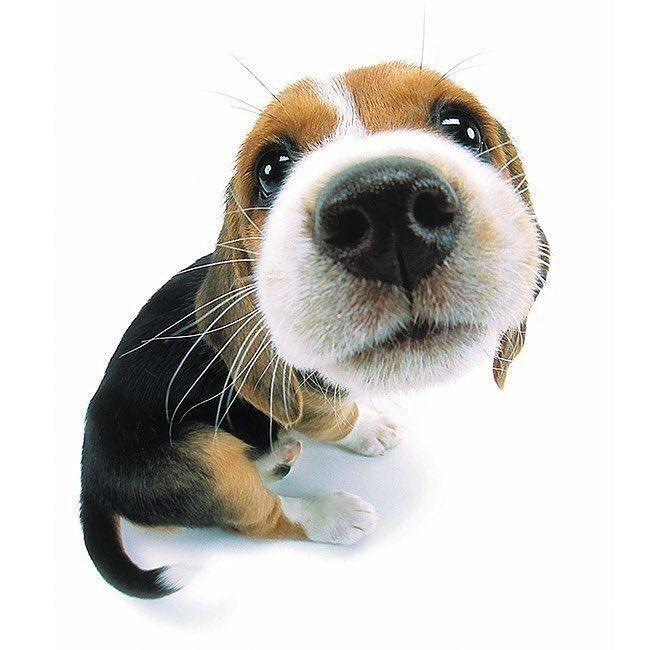puppy-dog: (77, 59, 554, 600)
